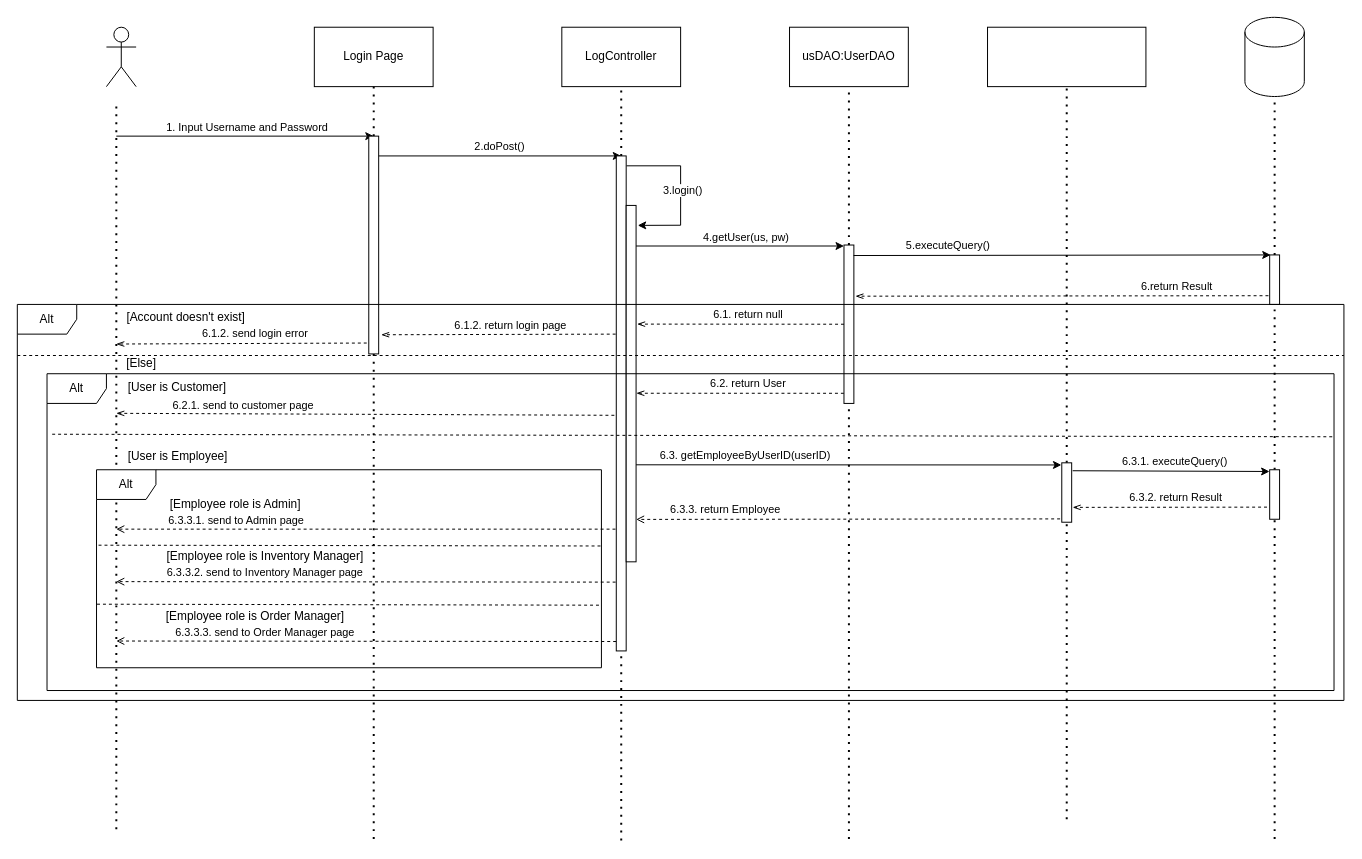
The diagram is 1362 pixels wide and 859 high, and some of its shapes have lost their labels. The shapes that lost their labels are listed below. From the top down, each one's centre as x and y in pixels, then its label:
the point at 120,56: Guest
the point at 1066,56: empDAO:EmployeeDAO
the point at 1274,56: DB
